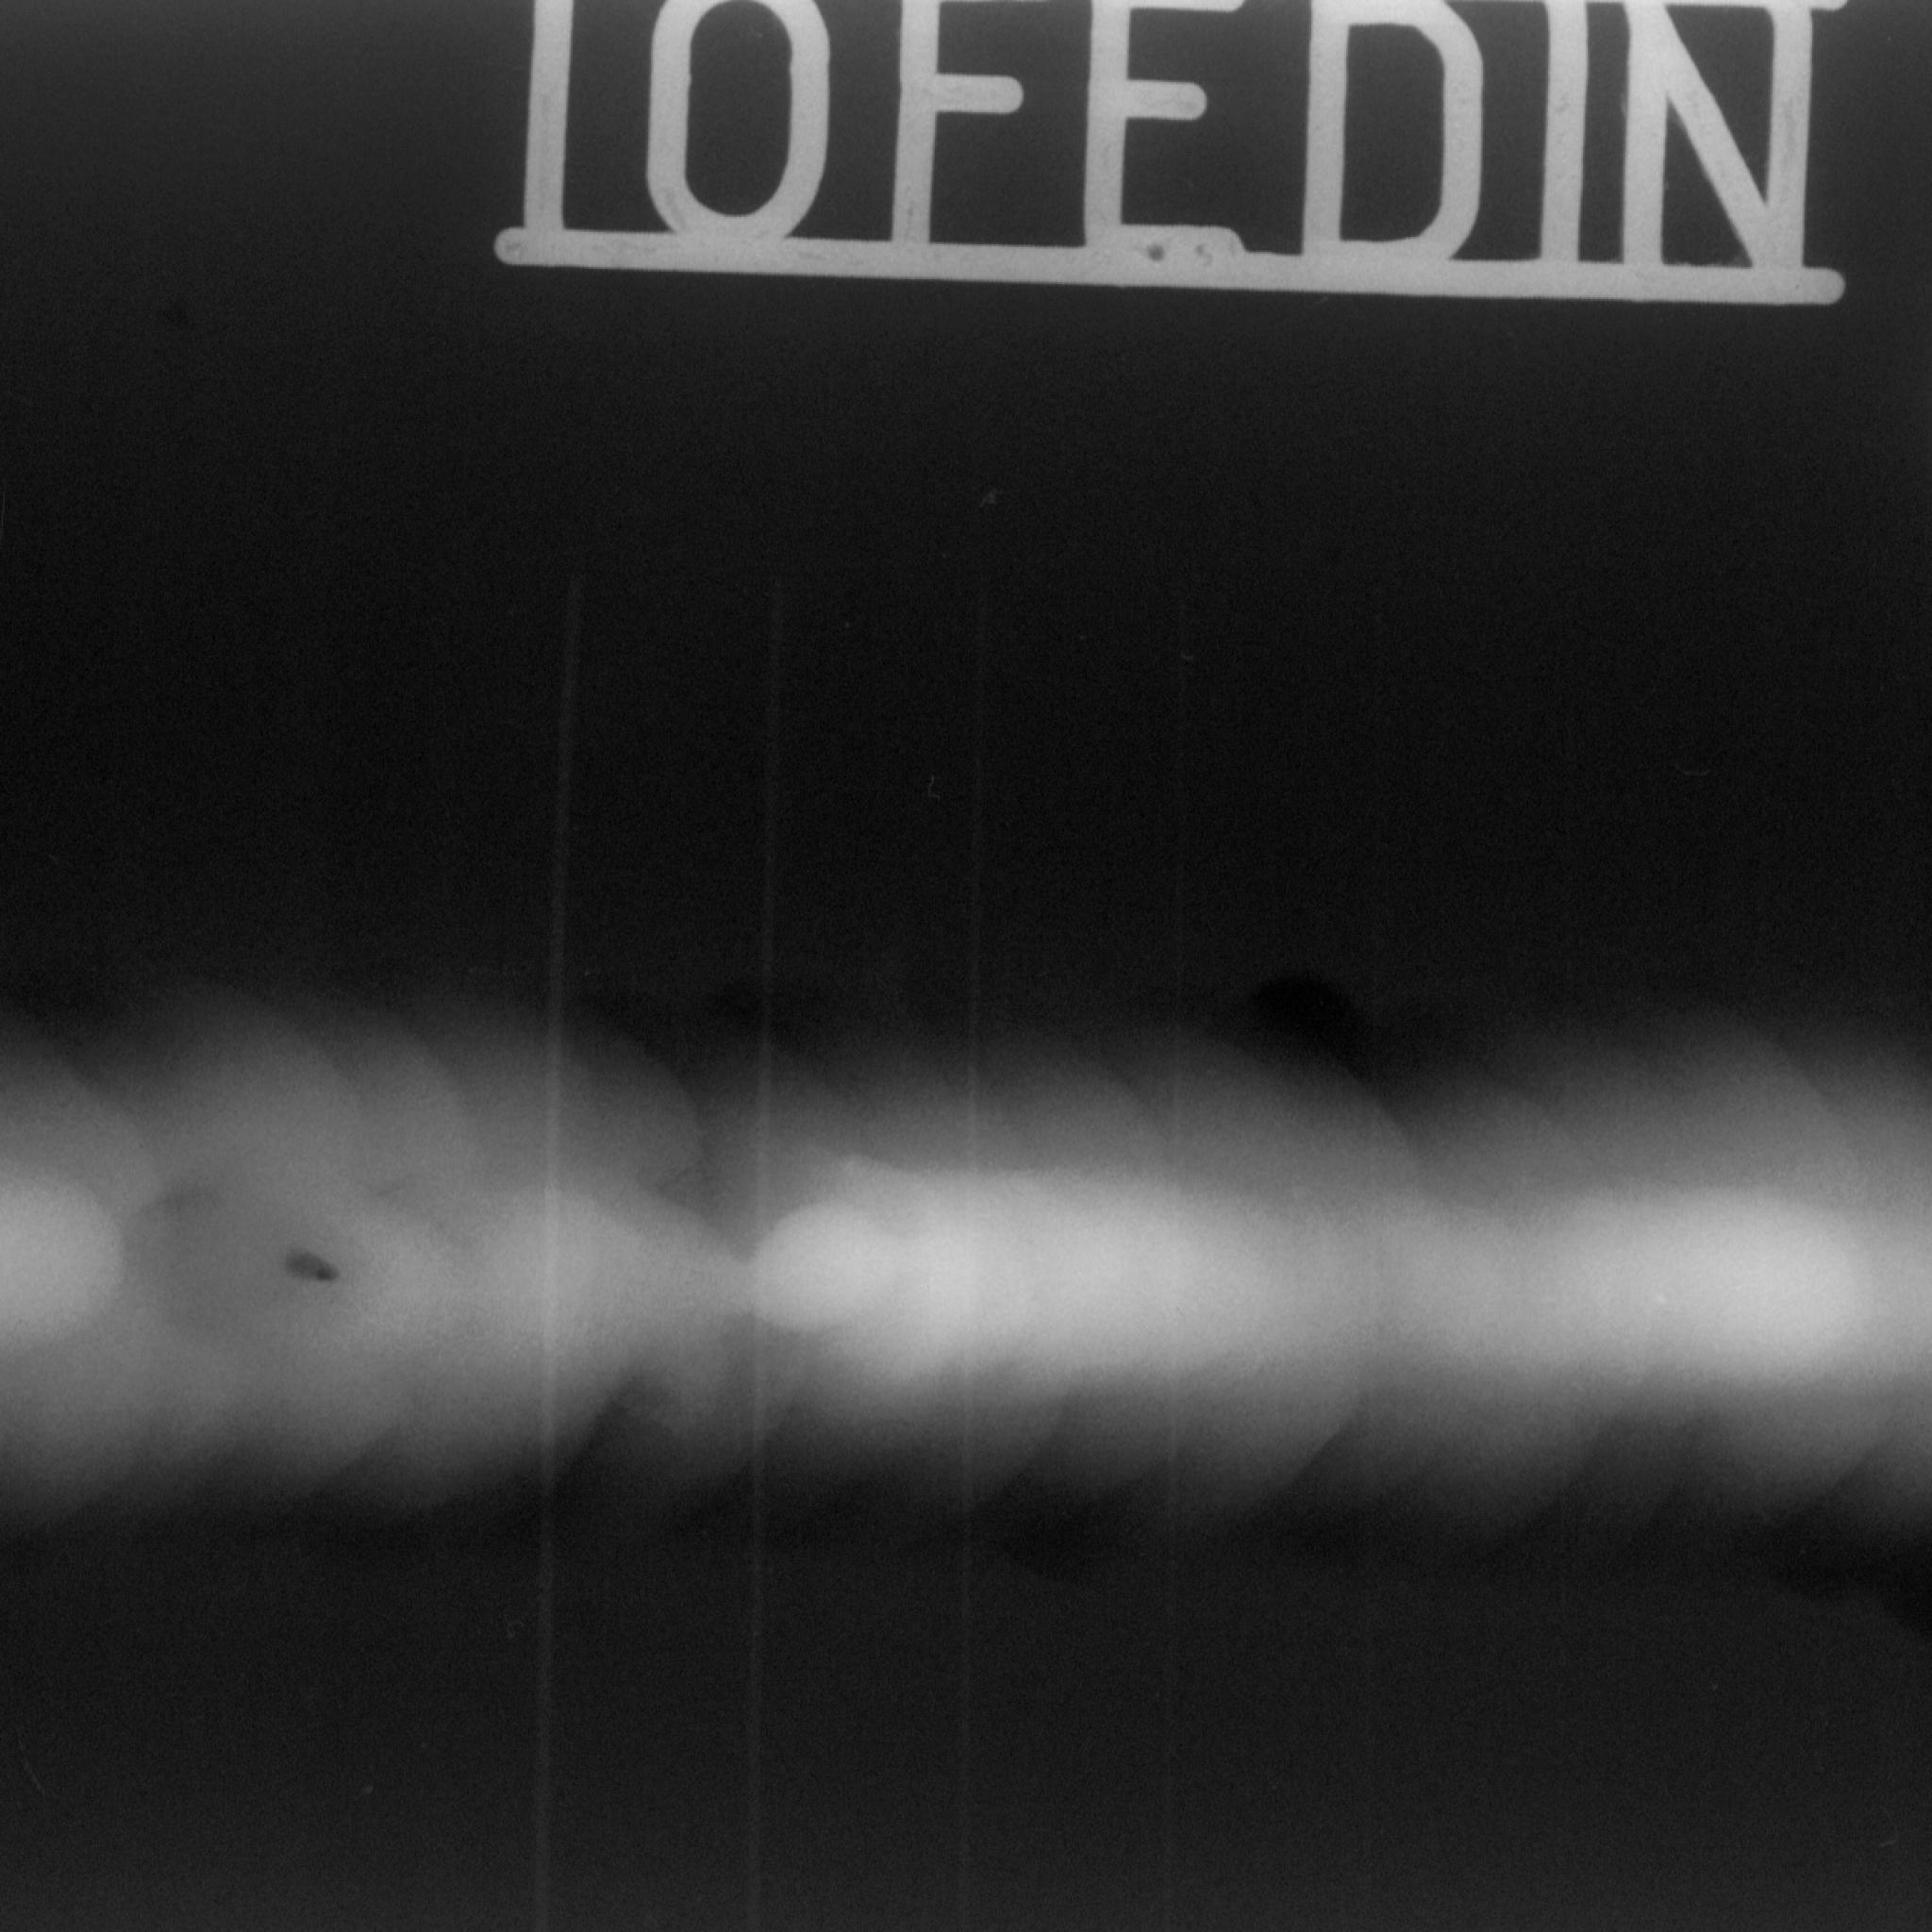PO: (267, 1223, 354, 1302)
Solda Ruim: (2, 950, 1932, 1601)
